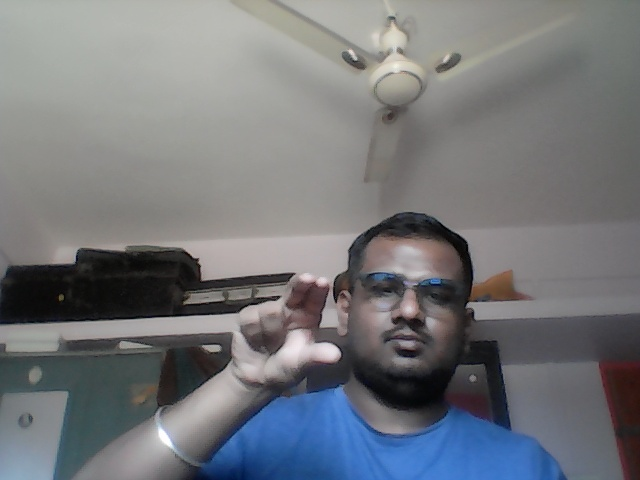No: (229, 270, 346, 393)
